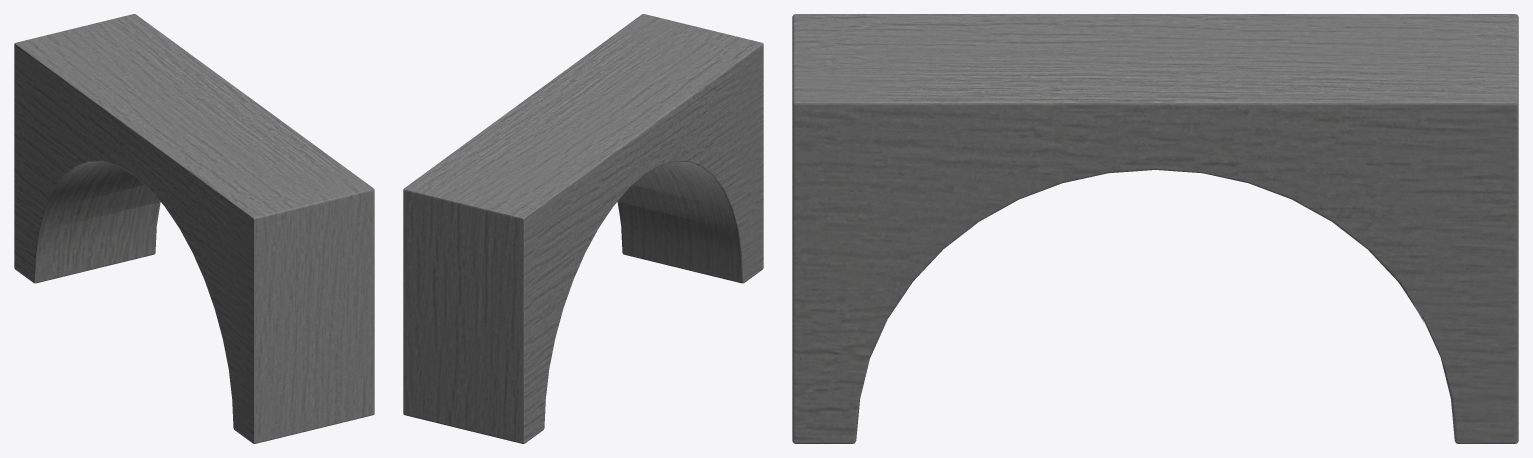
The model's file is ABlock3Arch.obj.
3 views of the same model, side by side, from view 1: azimuth 30°, elevation 25°; view 2: azimuth 150°, elevation 25°; view 3: azimuth 270°, elevation 25° (orthographic). The views are drawn at different scales.
Visible parts, largest first — view 1: pCube5; view 2: pCube5; view 3: pCube5.
Boxes of the visible parts, left/top/right/bottom form: pCube5: left=14, top=14, right=374, bottom=443; pCube5: left=403, top=14, right=763, bottom=443; pCube5: left=792, top=14, right=1518, bottom=443.
Size of the model in its own units: 2 by 3.55 by 6.83.
1 material, 1 textured.
